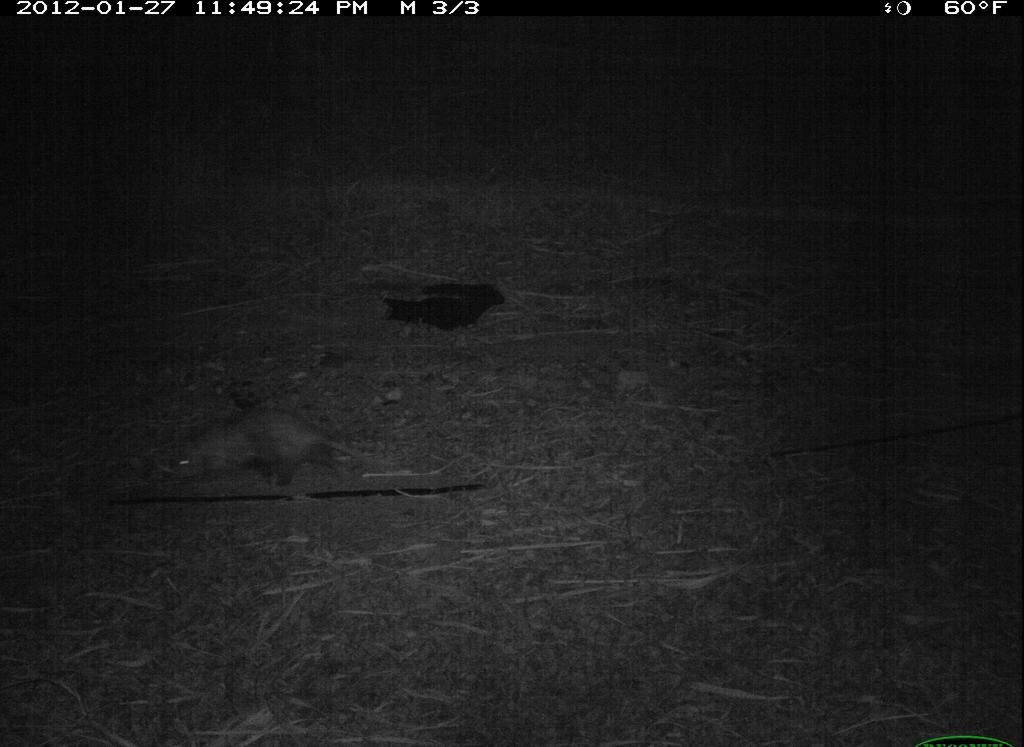opossum: (158, 400, 410, 502)
